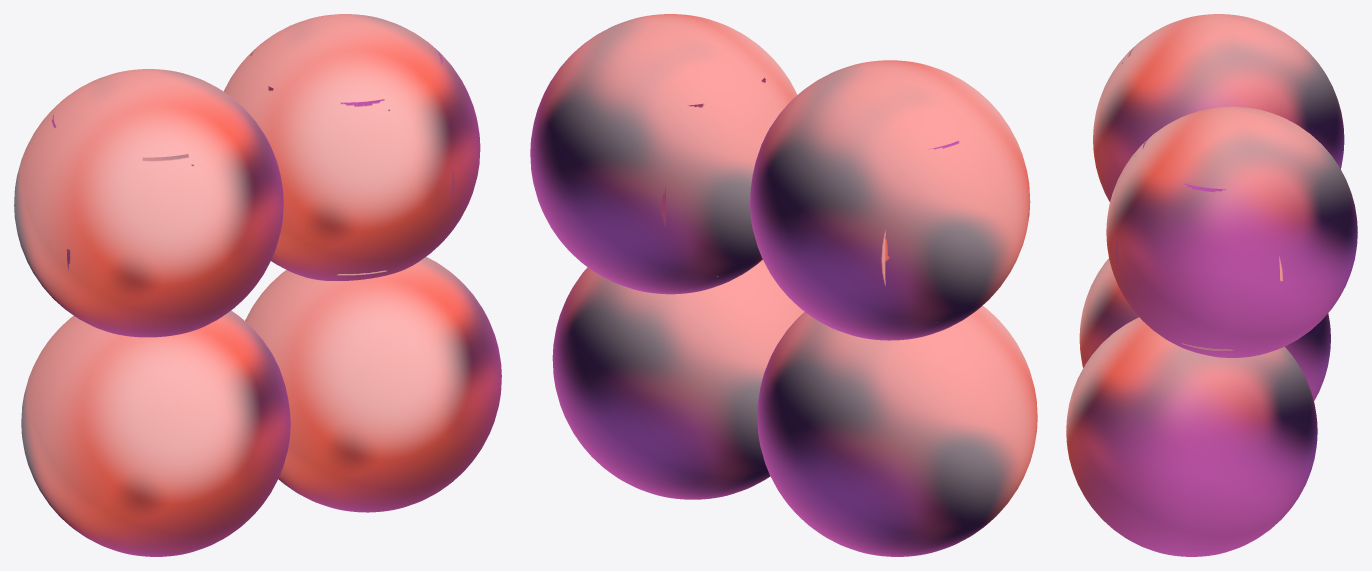
Rendered from clover.glb.
3 renders of one model, left to right at view 1: azimuth 30°, elevation 25°; view 2: azimuth 150°, elevation 25°; view 3: azimuth 270°, elevation 25°, orthographic. The views are drawn at different scales.
Parts seen in each view (by area): view 1: Sphere.016; view 2: Sphere.016; view 3: Sphere.016.
Boxes of the visible parts, bbox=[...] form: Sphere.016: bbox=[14, 14, 501, 556]; Sphere.016: bbox=[530, 14, 1037, 556]; Sphere.016: bbox=[1066, 14, 1357, 556].
Bounding box in the file's own units: 1.76 × 1.76 × 1.09.
Materials: 1 (1 with a texture image).
